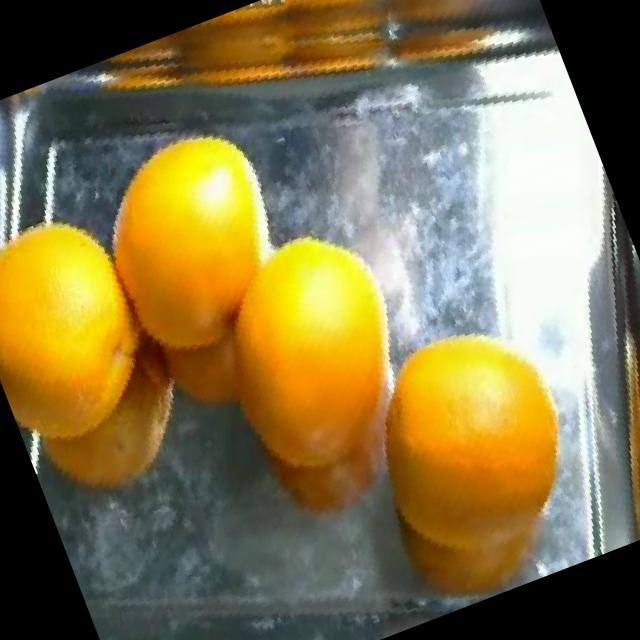Fruit: (46, 88, 327, 376), (6, 334, 222, 538)
